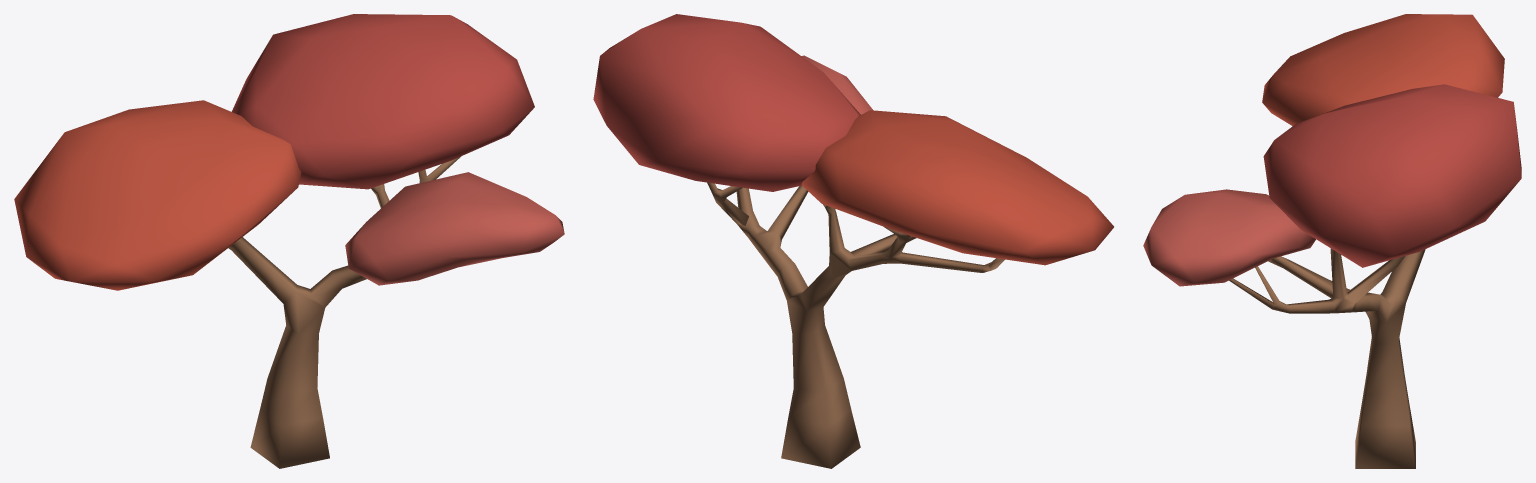
File: Acacia_Red_1.fbx
The picture shows the model from 3 angles, left to right: view 1: azimuth 30°, elevation 25°; view 2: azimuth 150°, elevation 25°; view 3: azimuth 270°, elevation 25°; orthographic projection. The views are drawn at different scales.
Visible parts, largest first — view 1: Icosphere_033, Icosphere_035, Icosphere_034, Cube_130; view 2: Icosphere_035, Icosphere_033, Cube_130, Icosphere_034; view 3: Icosphere_035, Icosphere_033, Cube_130, Icosphere_034.
Part boxes in pixels (left/top/right/bottom): Icosphere_033: left=14, top=100, right=301, bottom=290; Icosphere_035: left=231, top=14, right=534, bottom=189; Icosphere_034: left=345, top=172, right=564, bottom=285; Cube_130: left=228, top=156, right=460, bottom=468; Icosphere_035: left=593, top=14, right=860, bottom=191; Icosphere_033: left=802, top=110, right=1113, bottom=265; Cube_130: left=707, top=182, right=1004, bottom=468; Icosphere_034: left=801, top=55, right=872, bottom=114; Icosphere_035: left=1263, top=84, right=1521, bottom=267; Icosphere_033: left=1262, top=14, right=1504, bottom=126; Cube_130: left=1229, top=248, right=1425, bottom=468; Icosphere_034: left=1143, top=189, right=1315, bottom=286.
Size of the model in its own units: 951 by 730 by 611.
